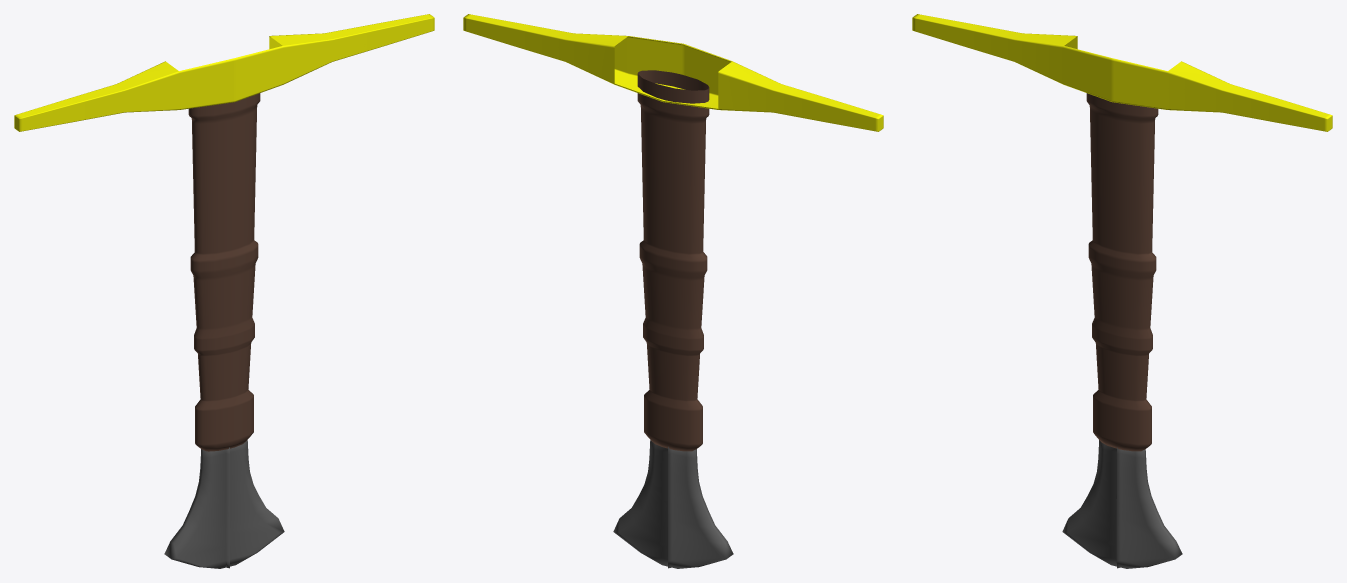
The model's file is hilt1.fbx.
The picture shows the model from 3 angles, left to right: view 1: azimuth 30°, elevation 25°; view 2: azimuth 150°, elevation 25°; view 3: azimuth 330°, elevation 25°; orthographic projection.
Parts seen in each view (by area): view 1: Sword_LOD0.004, Sword_LOD0.001, Sword_LOD0.003; view 2: Sword_LOD0.004, Sword_LOD0.001, Sword_LOD0.003; view 3: Sword_LOD0.004, Sword_LOD0.001, Sword_LOD0.003.
Part boxes in pixels (x1=…): Sword_LOD0.004: x1=188, y1=93, x2=260, y2=451; Sword_LOD0.001: x1=14, y1=14, x2=434, y2=131; Sword_LOD0.003: x1=164, y1=440, x2=284, y2=568; Sword_LOD0.004: x1=637, y1=70, x2=709, y2=451; Sword_LOD0.001: x1=463, y1=14, x2=883, y2=131; Sword_LOD0.003: x1=613, y1=440, x2=733, y2=568; Sword_LOD0.004: x1=1086, y1=93, x2=1158, y2=451; Sword_LOD0.001: x1=912, y1=14, x2=1332, y2=131; Sword_LOD0.003: x1=1062, y1=440, x2=1182, y2=568.
Bounding box in the file's own units: 207 × 245 × 17.95.
